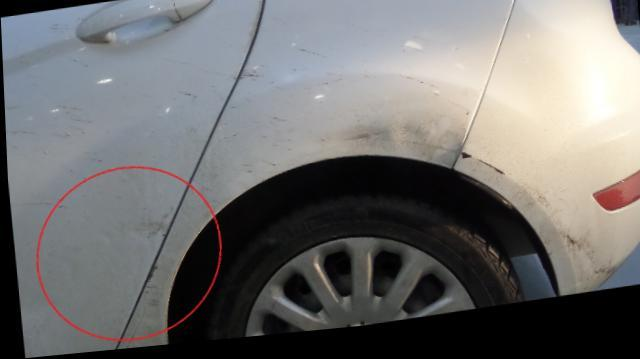dent: (332, 124, 467, 177)
scratch: (116, 209, 172, 242), (475, 168, 503, 184), (404, 84, 438, 97), (16, 203, 66, 209), (298, 55, 325, 64), (64, 169, 84, 180), (67, 57, 87, 68), (310, 84, 341, 91), (140, 270, 153, 286), (452, 112, 468, 123), (248, 125, 274, 131), (221, 136, 239, 143), (64, 112, 79, 120), (202, 74, 225, 79), (178, 94, 196, 100), (59, 106, 80, 111), (73, 127, 84, 135), (325, 78, 341, 83), (260, 165, 273, 171), (73, 120, 92, 124), (243, 78, 262, 82), (458, 161, 470, 167), (232, 173, 250, 177), (162, 61, 175, 66), (269, 122, 285, 126), (354, 0, 364, 6), (5, 131, 33, 133), (85, 159, 99, 163), (52, 134, 65, 138), (48, 28, 73, 30), (252, 75, 264, 79), (26, 74, 35, 79), (273, 91, 284, 95), (363, 82, 373, 86), (4, 106, 22, 108), (83, 153, 95, 156), (143, 288, 155, 291), (189, 101, 195, 107), (180, 65, 192, 68), (227, 110, 237, 113), (19, 61, 29, 64), (31, 83, 41, 86), (142, 302, 156, 304), (282, 152, 289, 156), (259, 69, 267, 72), (317, 144, 323, 148), (209, 89, 216, 92), (260, 140, 266, 143), (162, 32, 170, 34), (267, 86, 272, 89), (52, 25, 67, 26), (50, 32, 63, 33), (238, 169, 248, 170), (244, 73, 247, 76), (65, 134, 68, 137), (43, 151, 46, 154), (238, 82, 242, 84), (251, 84, 258, 85), (232, 81, 235, 83), (12, 146, 15, 148), (2, 60, 7, 61), (245, 67, 247, 69)
